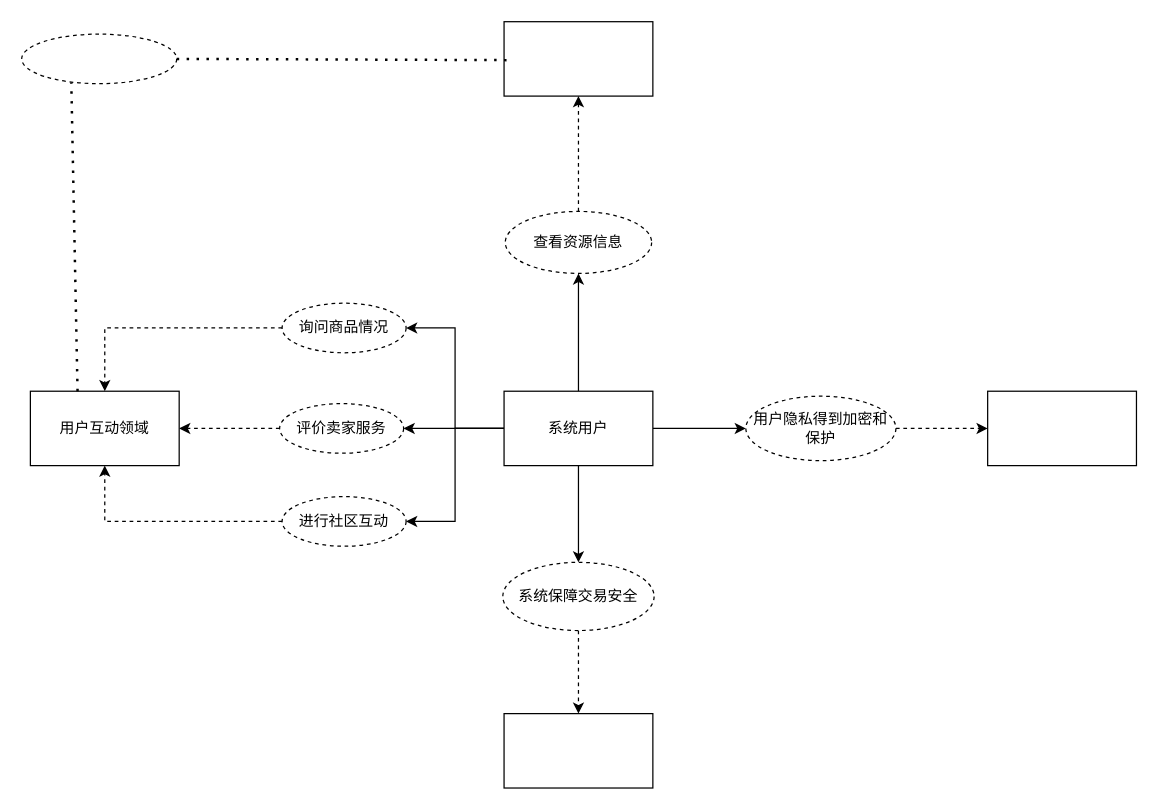
Image size: 1158x810. Some labels were removed from this diagram. Here are the shapes that lost their labels. From the top down, the centre of each, then its label:
At (98,58): "信息交流".
At (578,58): "资源共享领域".
At (1061,428): "隐私和交易安全领域".
At (578,750): "交易安全领域".
